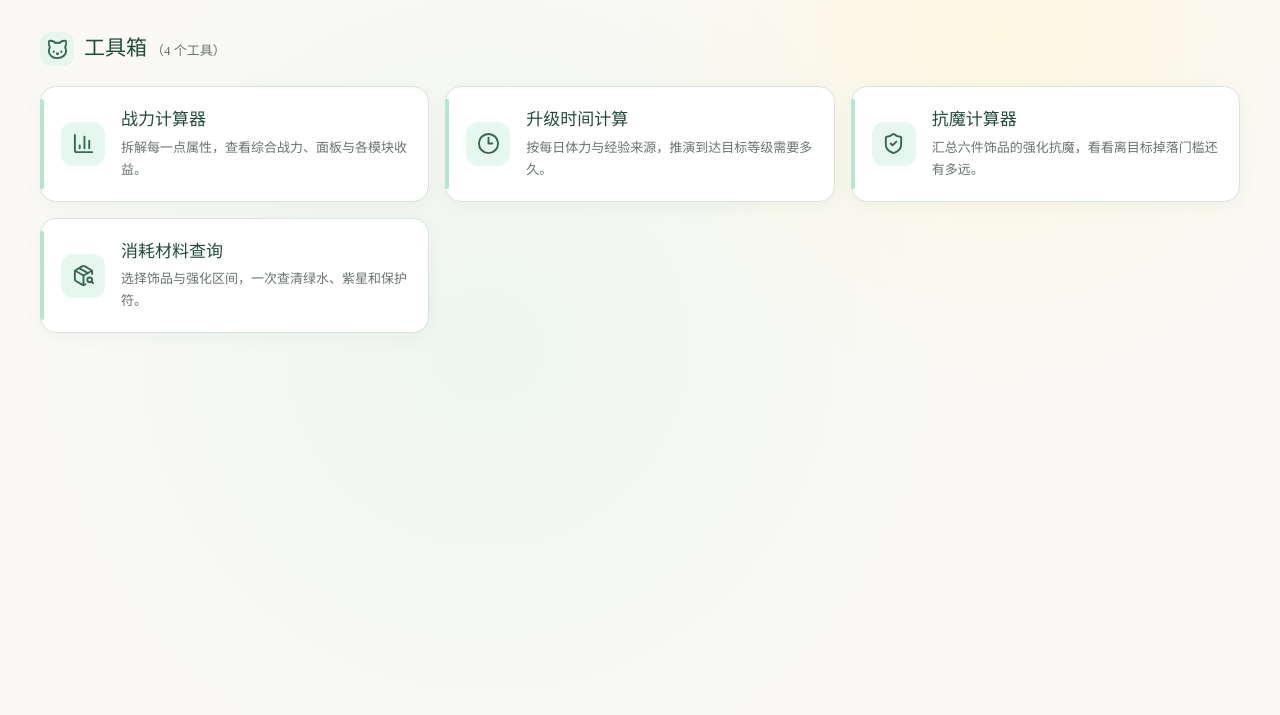
Test: 首页快捷导航 › 首页卡片可以进入 power，回首页后恢复根地址
The width and height of the screenshot is (1280, 715).
Click the link with aria-label "进入战力计算器": (235, 144) [40, 86, 429, 202]
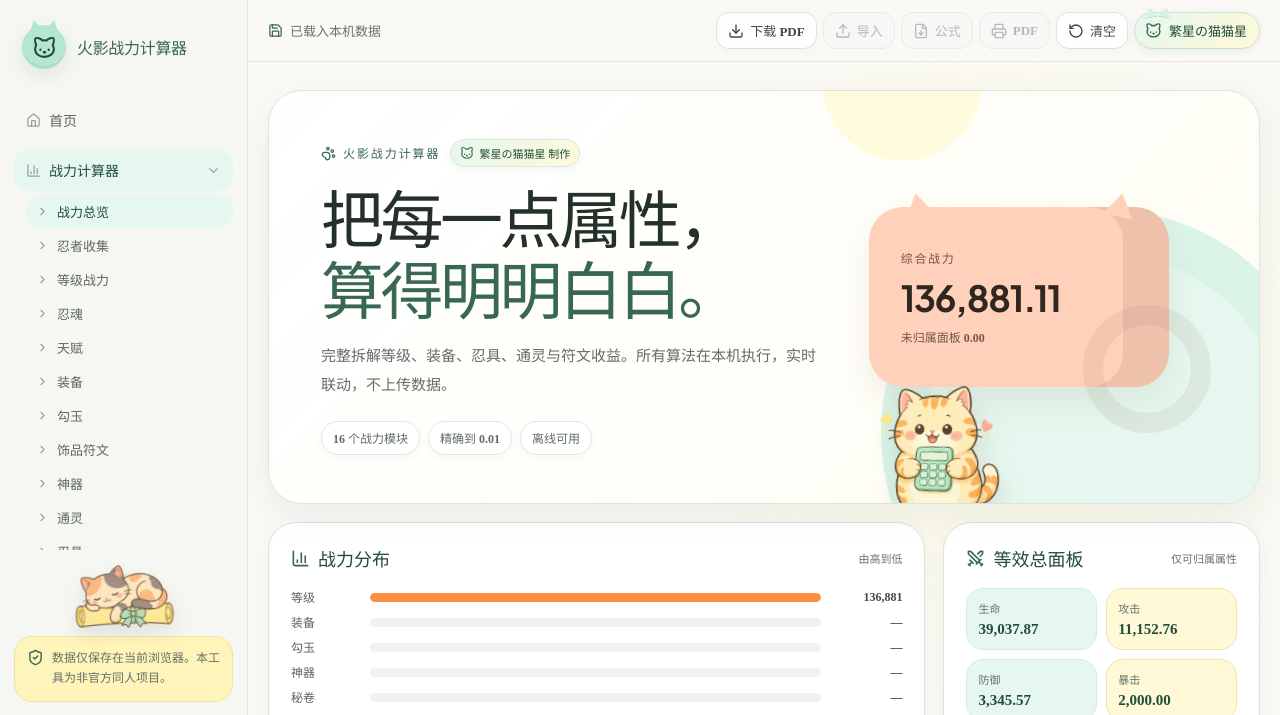
Now the button "首页" is shown
Now the button "战力计算器" is shown, box [14, 149, 233, 191]
Now the link "升级时间计算" is gone
Click the button "首页": (124, 120) [14, 99, 233, 141]
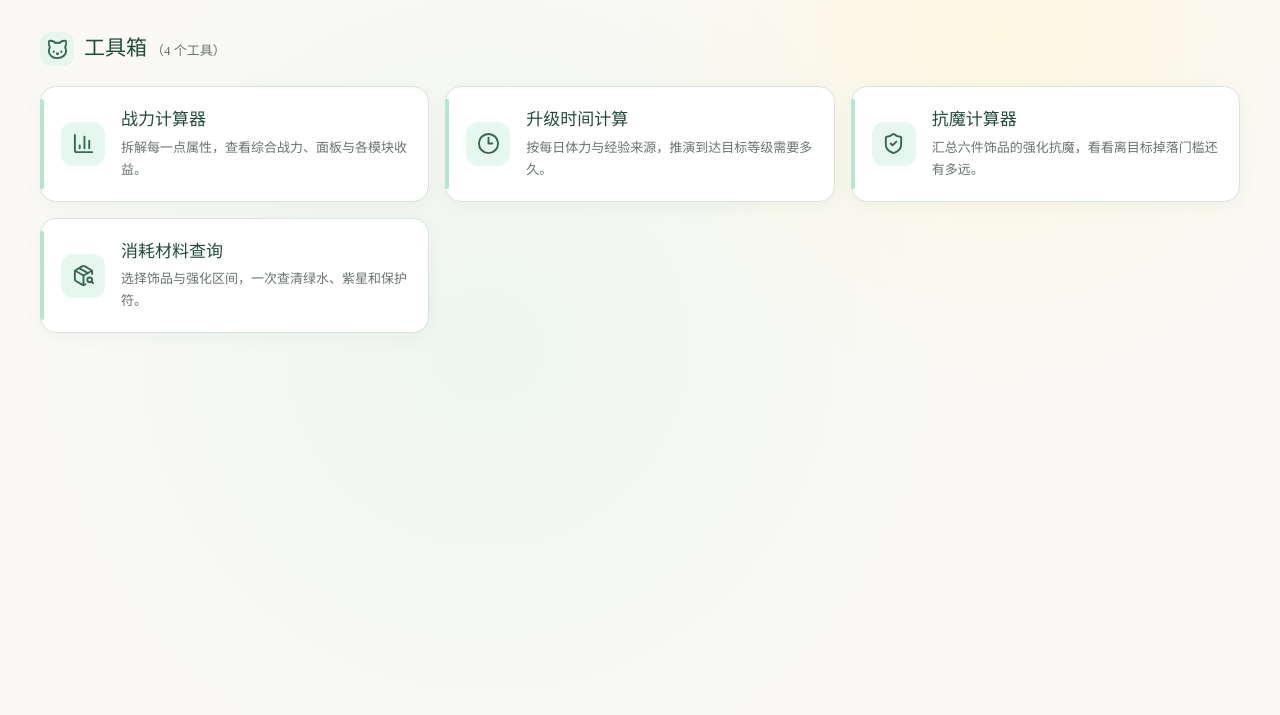
Now the heading named "工具箱（4 个工具）" is shown, box [84, 33, 226, 65]
Now the navigation bar "页面导航" is gone
